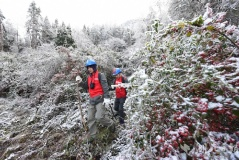blue: (84, 58, 97, 73), (112, 68, 121, 78)
